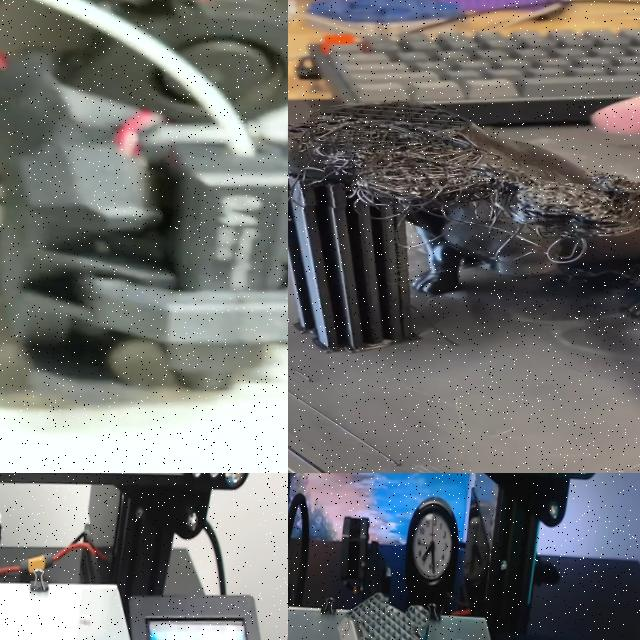spaghetti: (288, 104, 640, 261)
